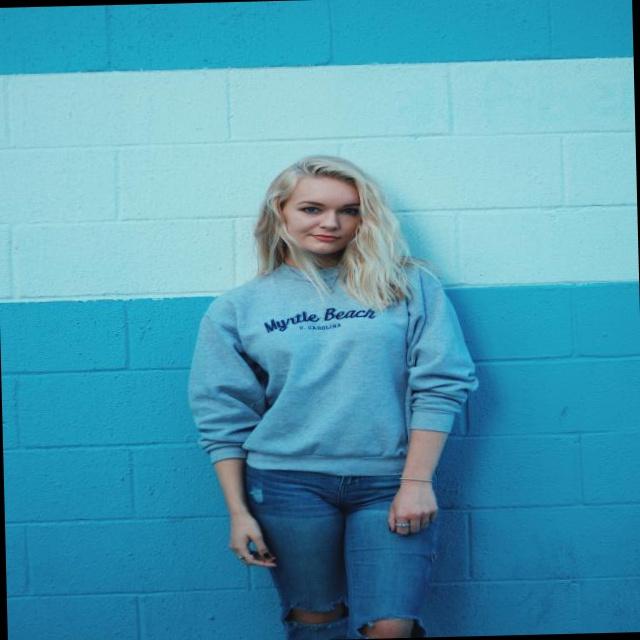ripped_pants: (247, 465, 445, 640)
